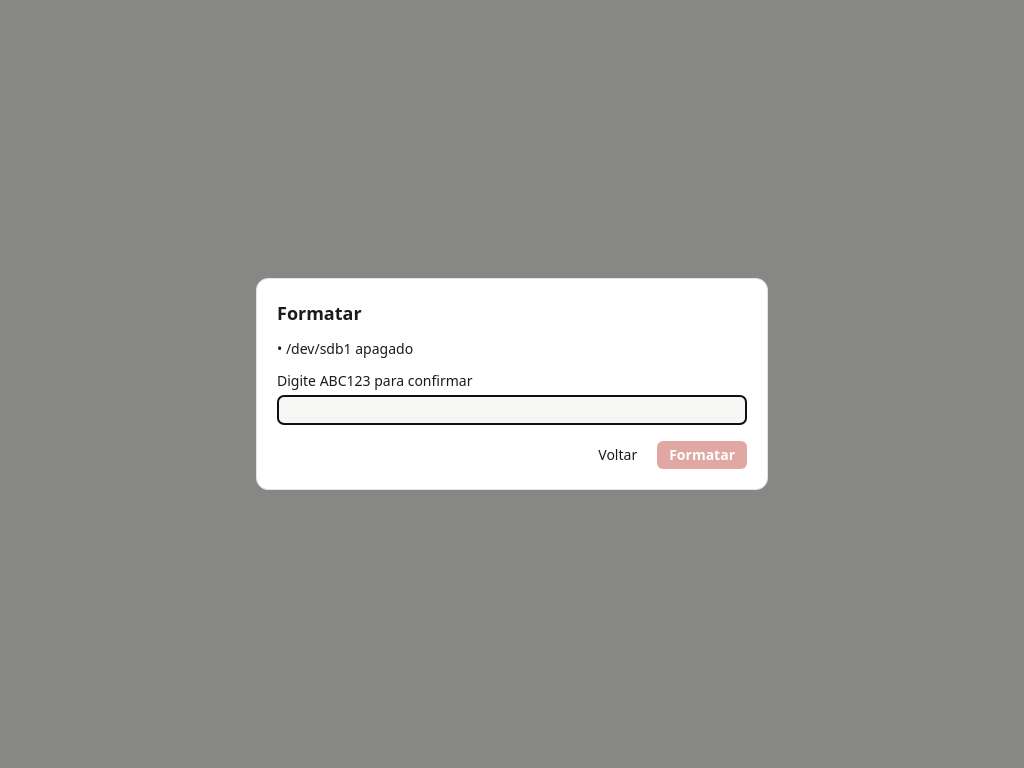
it: ConfirmDialog › só habilita com o token exato (aparando espaços)
This screenshot has width=1024, height=768.
Later steps or results of the test are not shown.
Check: the button "Formatar" is disabled, box [657,441,747,469]
Type "abc123" into the field labelled "Digite ABC123 para confirmar" at (512, 410), box [277,395,747,425]
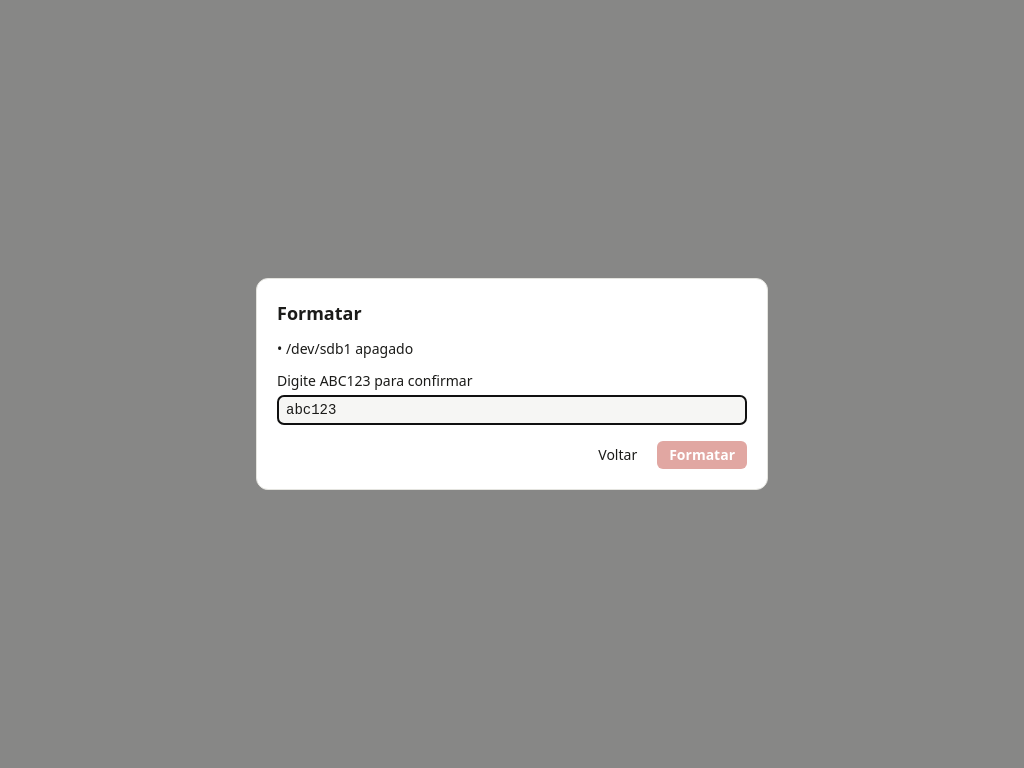
Check: the button "Formatar" is disabled, box [657,441,747,469]
Replace the text in the field labelled "Digite ABC123 para confirmar" with " ABC123 " at (512, 410), box [277,395,747,425]
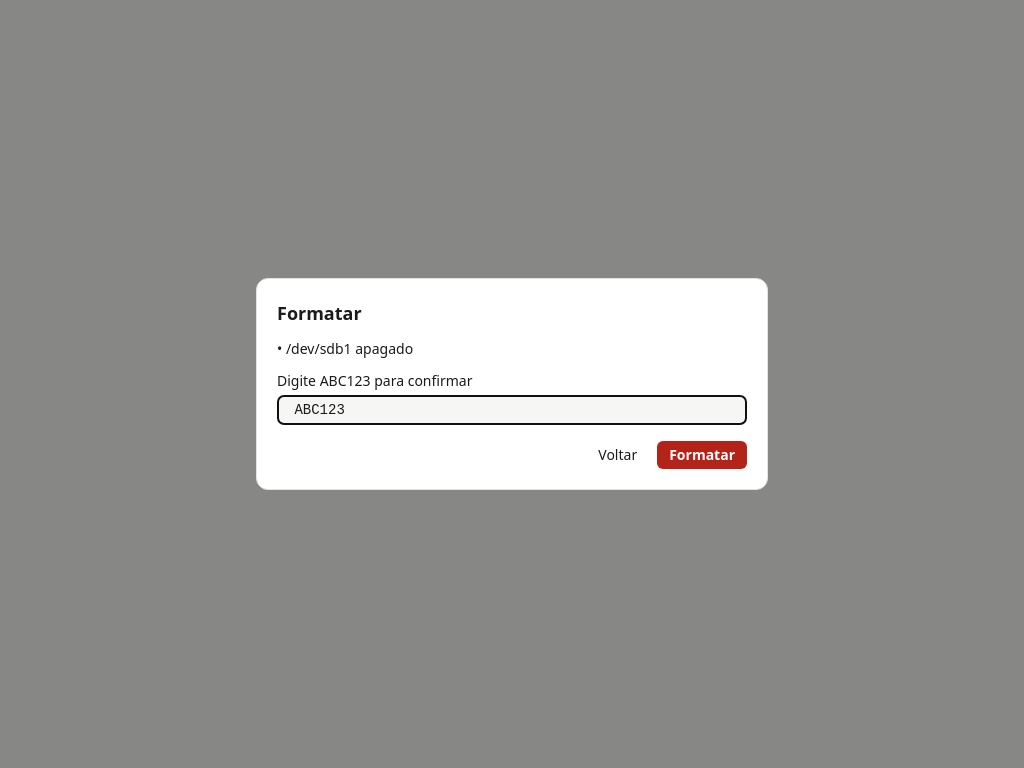
Check: the button "Formatar" is enabled, box [657,441,747,469]
